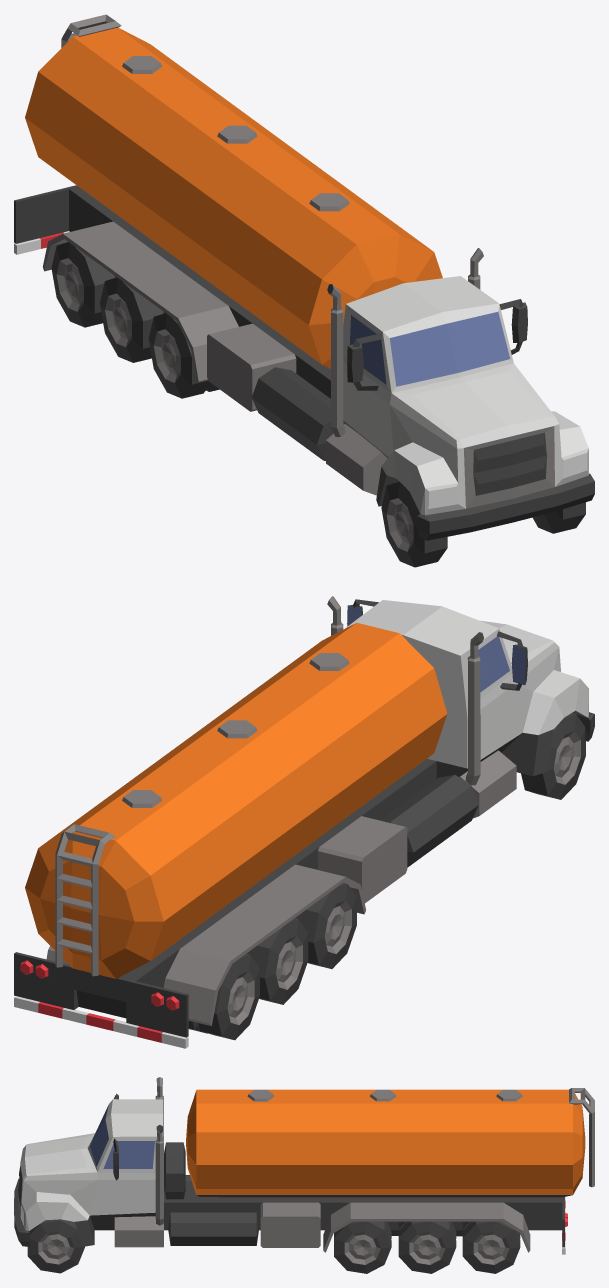
Rendered from vehicles-car-truck-tanker.glb.
3 views of the same model, one above another, from view 1: azimuth 30°, elevation 25°; view 2: azimuth 150°, elevation 25°; view 3: azimuth 270°, elevation 25° (orthographic). The views are drawn at different scales.
Visible parts, largest first — view 1: car-truck-tanker-base, car-truck-tanker-wheel_BR2, car-truck-tanker-wheel_BR3, car-truck-tanker-wheel_BR1, car-truck-tanker-wheel_FR, car-truck-tanker-wheel_FL; view 2: car-truck-tanker-base, car-truck-tanker-wheel_BR1, car-truck-tanker-wheel_BR2, car-truck-tanker-wheel_BR3, car-truck-tanker-wheel_FR; view 3: car-truck-tanker-base, car-truck-tanker-wheel_BL2, car-truck-tanker-wheel_BL3, car-truck-tanker-wheel_BL1, car-truck-tanker-wheel_FL.
Boxes of the visible parts, box(x1,y1,x2,y2) form: car-truck-tanker-base: box(14, 14, 594, 540); car-truck-tanker-wheel_BR2: box(99, 277, 164, 362); car-truck-tanker-wheel_BR3: box(51, 242, 116, 327); car-truck-tanker-wheel_BR1: box(148, 313, 219, 398); car-truck-tanker-wheel_FR: box(381, 481, 447, 567); car-truck-tanker-wheel_FL: box(532, 502, 585, 533); car-truck-tanker-base: box(14, 596, 594, 1048); car-truck-tanker-wheel_BR1: box(295, 882, 356, 968); car-truck-tanker-wheel_BR2: box(247, 918, 308, 1004); car-truck-tanker-wheel_BR3: box(188, 953, 259, 1040); car-truck-tanker-wheel_FR: box(521, 713, 585, 799); car-truck-tanker-base: box(14, 1077, 594, 1254); car-truck-tanker-wheel_BL2: box(398, 1221, 456, 1273); car-truck-tanker-wheel_BL3: box(462, 1221, 520, 1273); car-truck-tanker-wheel_BL1: box(334, 1221, 391, 1273); car-truck-tanker-wheel_FL: box(27, 1219, 84, 1273).
Size of the model in its own units: 2.57 by 3.2 by 10.9.
